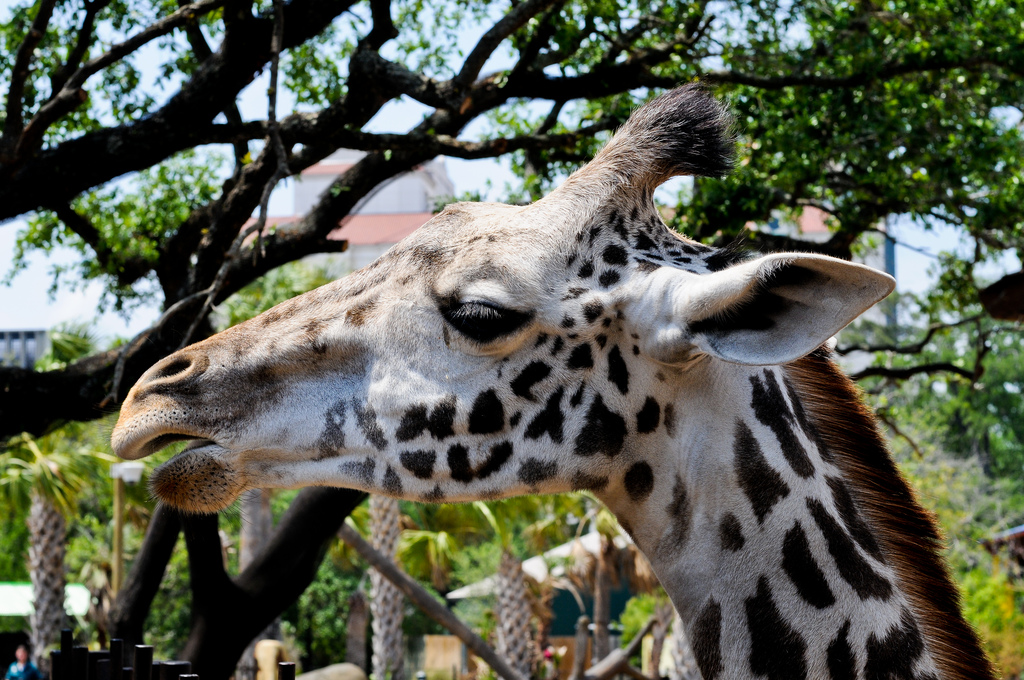giraffe: (94, 121, 943, 647)
